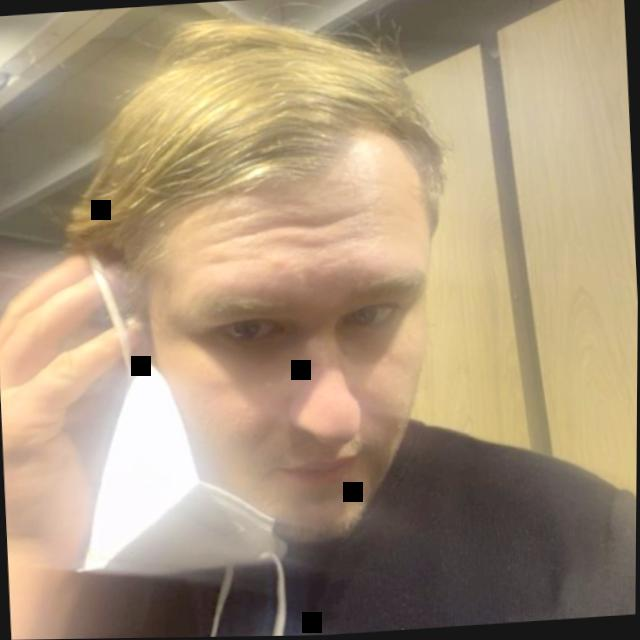NO-Mask: (80, 0, 474, 559)
